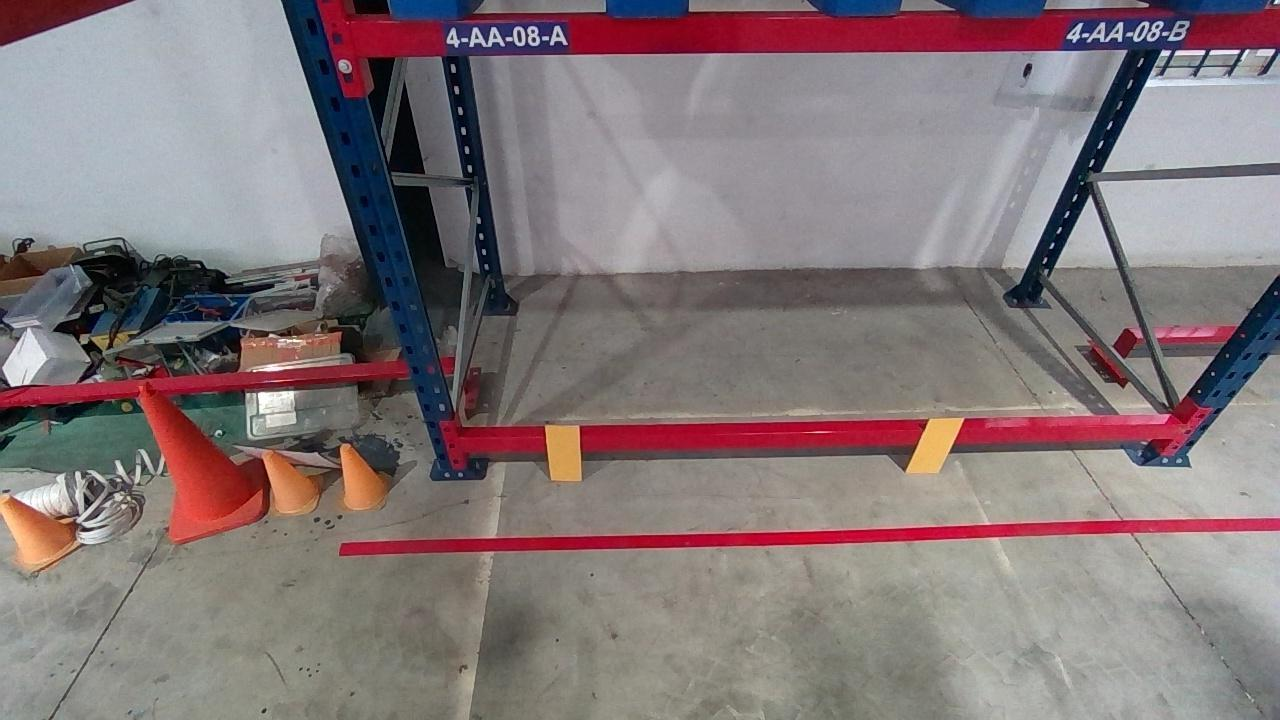h_rack: (346, 13, 1278, 54), (463, 424, 1179, 453)
orange_strip: (904, 417, 968, 473), (543, 425, 581, 480)
red_line: (335, 515, 1276, 555)
